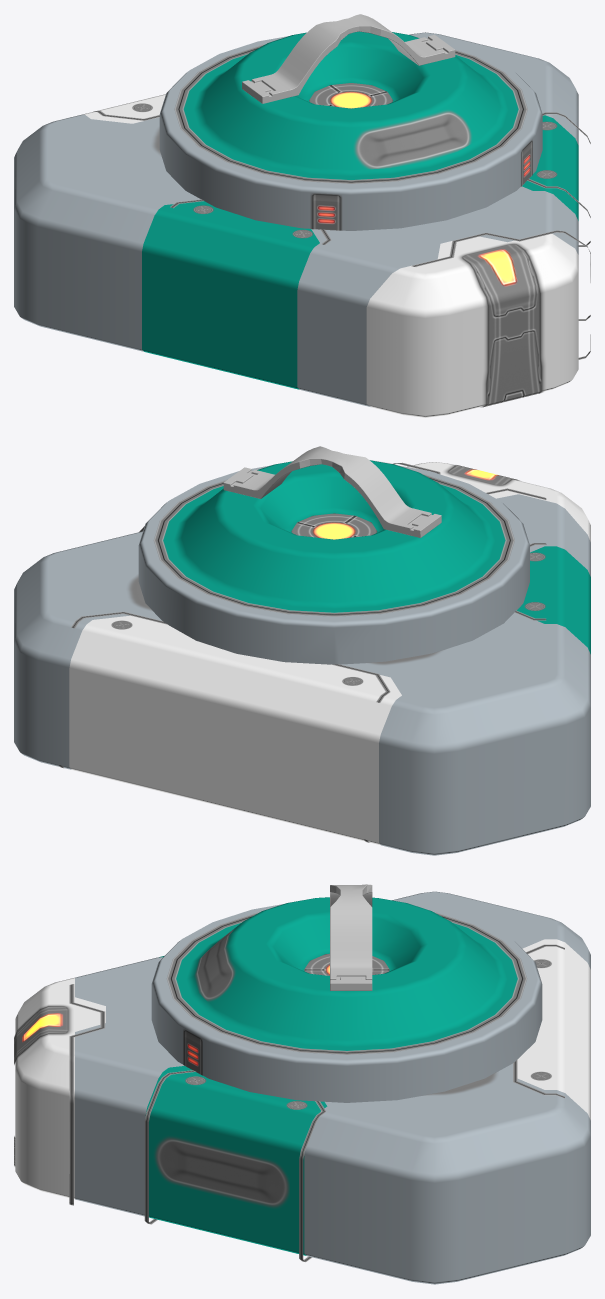
Rendered from handle.glb.
3 renders of one model, top to bottom at view 1: azimuth 30°, elevation 25°; view 2: azimuth 150°, elevation 25°; view 3: azimuth 270°, elevation 25°, orthographic. The views are drawn at different scales.
Parts seen in each view (by area): view 1: Container004_Color1_0, Container003_Color3_0, Container004_Color3_0, Container004_Color2_0, Container003_Color1_0, Container004_d_Decals_0, Container003_d_Decals_0, Furniture Handle; view 2: Container004_Color1_0, Container004_Color2_0, Container003_Color3_0, Container003_Color1_0, Container003_d_Decals_0, Furniture Handle, Container004_Color3_0, Container004_d_Decals_0; view 3: Container004_Color1_0, Container003_Color3_0, Container003_Color1_0, Container004_Color2_0, Container004_Color3_0, Container004_d_Decals_0, Container003_d_Decals_0, Furniture Handle.
Boxes of the visible parts, x1=… form: Container004_Color1_0: x1=14, y1=32, x2=578, y2=406; Container003_Color3_0: x1=183, y1=31, x2=518, y2=179; Container004_Color3_0: x1=142, y1=115, x2=578, y2=389; Container004_Color2_0: x1=81, y1=94, x2=578, y2=417; Container003_Color1_0: x1=159, y1=36, x2=542, y2=230; Container004_d_Decals_0: x1=93, y1=103, x2=590, y2=407; Container003_d_Decals_0: x1=174, y1=44, x2=532, y2=230; Furniture Handle: x1=242, y1=14, x2=455, y2=103; Container004_Color1_0: x1=14, y1=494, x2=590, y2=855; Container004_Color2_0: x1=69, y1=462, x2=590, y2=845; Container003_Color3_0: x1=163, y1=460, x2=505, y2=612; Container003_Color1_0: x1=138, y1=465, x2=529, y2=664; Container003_d_Decals_0: x1=153, y1=462, x2=519, y2=616; Furniture Handle: x1=223, y1=446, x2=441, y2=537; Container004_Color3_0: x1=517, y1=546, x2=590, y2=654; Container004_d_Decals_0: x1=58, y1=462, x2=546, y2=842; Container004_Color1_0: x1=75, y1=891, x2=590, y2=1284; Container003_Color3_0: x1=176, y1=897, x2=517, y2=1050; Container003_Color1_0: x1=151, y1=904, x2=542, y2=1102; Container004_Color2_0: x1=15, y1=939, x2=590, y2=1199; Container004_Color3_0: x1=145, y1=956, x2=327, y2=1255; Container004_d_Decals_0: x1=14, y1=944, x2=564, y2=1262; Container003_d_Decals_0: x1=166, y1=912, x2=527, y2=1075; Furniture Handle: x1=330, y1=884, x2=372, y2=990.
Bounding box in the file's own units: 0.8337 × 0.3718 × 0.7389.
Materials: 5 (1 with a texture image).
